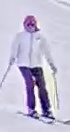skier: (0, 15, 70, 124)
